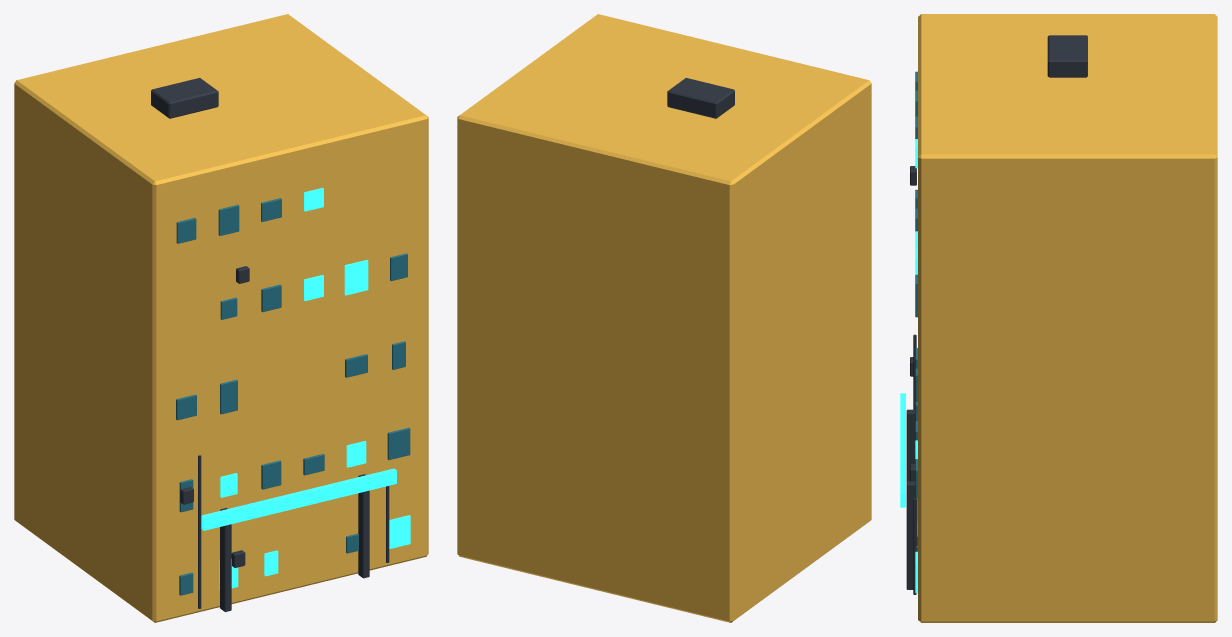
The model's file is building_005_seed11.glb.
3 views of the same model, side by side, from view 1: azimuth 30°, elevation 25°; view 2: azimuth 150°, elevation 25°; view 3: azimuth 270°, elevation 25° (orthographic). The views are drawn at different scales.
Parts seen in each view (by area): view 1: building_005_seed11; view 2: building_005_seed11; view 3: building_005_seed11.
Part boxes in pixels (left/top/right/bottom): building_005_seed11: left=14, top=14, right=428, bottom=622; building_005_seed11: left=457, top=14, right=871, bottom=622; building_005_seed11: left=900, top=14, right=1217, bottom=622.
Size of the model in its own units: 8.69 by 13.77 by 8.15.
